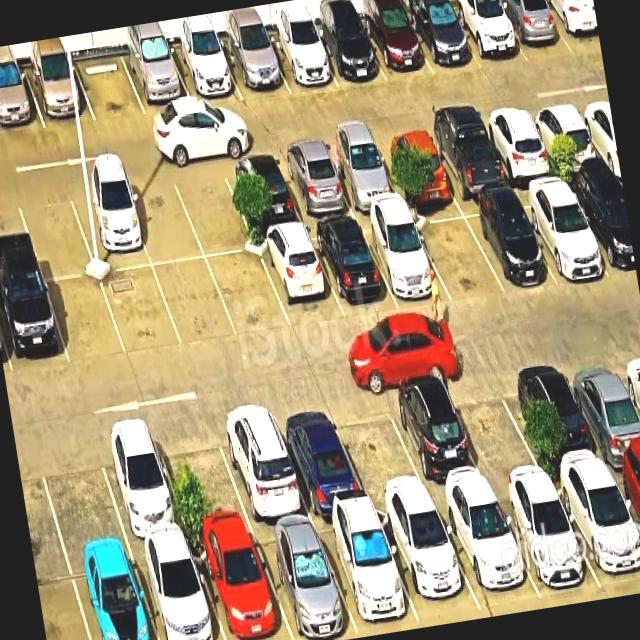car: (314, 509, 421, 638), (383, 377, 491, 499), (251, 521, 359, 640), (493, 481, 602, 598), (375, 502, 482, 620), (435, 490, 541, 609), (212, 402, 312, 526), (93, 423, 189, 545), (270, 398, 369, 516), (512, 357, 609, 477), (189, 529, 293, 640), (552, 468, 640, 594), (514, 183, 611, 282), (131, 538, 225, 640), (561, 351, 640, 467), (460, 197, 555, 292), (256, 228, 344, 330), (308, 220, 398, 317), (359, 213, 452, 306), (68, 547, 158, 640), (67, 179, 152, 273), (565, 175, 637, 277), (0, 278, 70, 375), (425, 120, 510, 199), (222, 154, 304, 234), (274, 146, 355, 223), (322, 138, 403, 213), (374, 129, 456, 202), (480, 110, 558, 185), (447, 0, 528, 71), (527, 102, 605, 175), (359, 8, 434, 82), (404, 4, 481, 75), (311, 19, 387, 87), (491, 0, 574, 61), (121, 47, 194, 115), (168, 42, 243, 108), (24, 60, 95, 129), (264, 29, 338, 93), (220, 36, 290, 100), (542, 0, 601, 53), (0, 68, 45, 135), (609, 461, 640, 534)
free: (444, 367, 547, 488), (327, 389, 431, 505), (152, 417, 252, 537), (33, 431, 128, 556), (410, 206, 505, 302), (171, 162, 256, 258), (122, 172, 204, 265), (15, 186, 96, 280), (153, 259, 238, 347), (100, 266, 183, 356), (207, 251, 291, 337), (46, 275, 126, 365), (73, 53, 146, 121)
